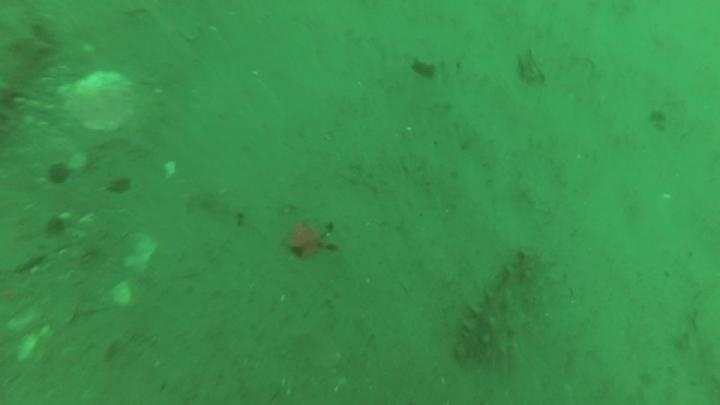holothurian: (450, 247, 555, 367)
scallop: (58, 68, 138, 135)
starfish: (279, 214, 339, 263)
